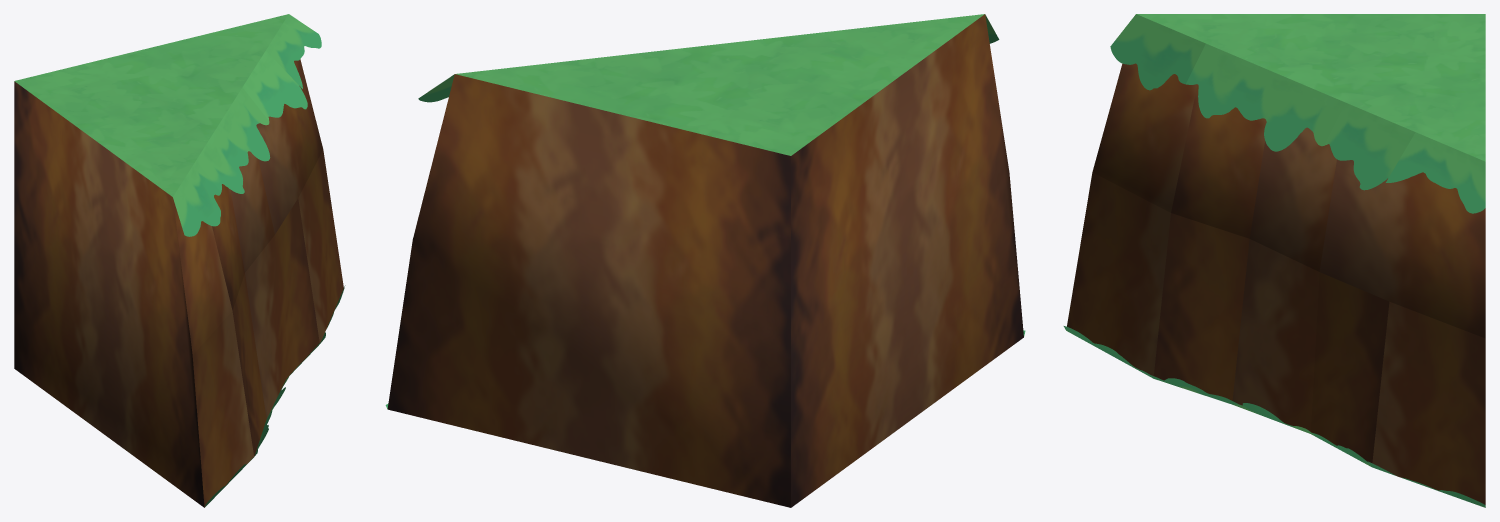
File: Cliff01_Diagonal_1x1x2.fbx
3 views of the same model, side by side, from view 1: azimuth 30°, elevation 25°; view 2: azimuth 150°, elevation 25°; view 3: azimuth 270°, elevation 25° (orthographic). The views are drawn at different scales.
Parts seen in each view (by area): view 1: Cliff01_Diagonal_1x1x2, Cliff01_Diagonal_1x1x2_Grass; view 2: Cliff01_Diagonal_1x1x2; view 3: Cliff01_Diagonal_1x1x2, Cliff01_Diagonal_1x1x2_Grass.
Boxes of the visible parts, left/top/right/bottom form: Cliff01_Diagonal_1x1x2: left=14, top=14, right=343, bottom=507; Cliff01_Diagonal_1x1x2_Grass: left=173, top=14, right=345, bottom=506; Cliff01_Diagonal_1x1x2: left=387, top=14, right=1023, bottom=507; Cliff01_Diagonal_1x1x2: left=1067, top=14, right=1485, bottom=504; Cliff01_Diagonal_1x1x2_Grass: left=1063, top=14, right=1485, bottom=507.
Bounding box in the file's own units: 3.06 × 3.06 × 2.5.
